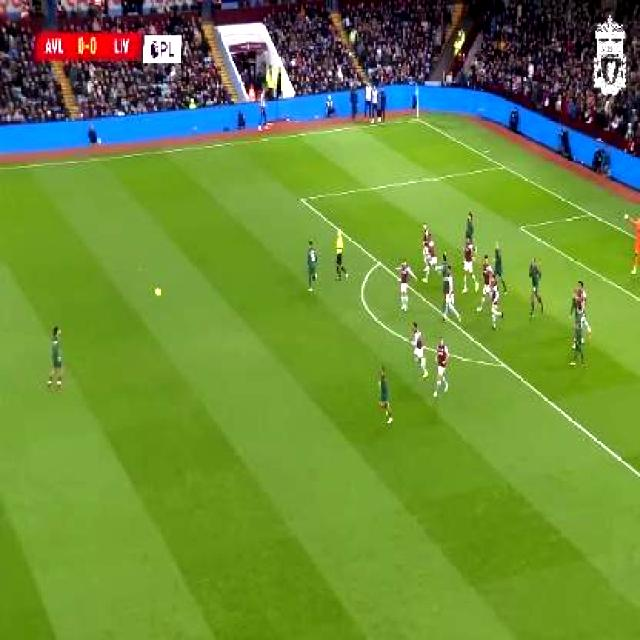bigarea_top_inner: (294, 188, 308, 208)
bigarea_top_outter: (495, 157, 511, 174)
bottom_arc_area_intersection: (494, 352, 511, 374)
corner: (406, 110, 425, 124)
smallarea_top_inner: (512, 217, 528, 237)
smallarea_top_outter: (581, 204, 597, 222)
top_arc_area_intersection: (370, 252, 384, 271)
